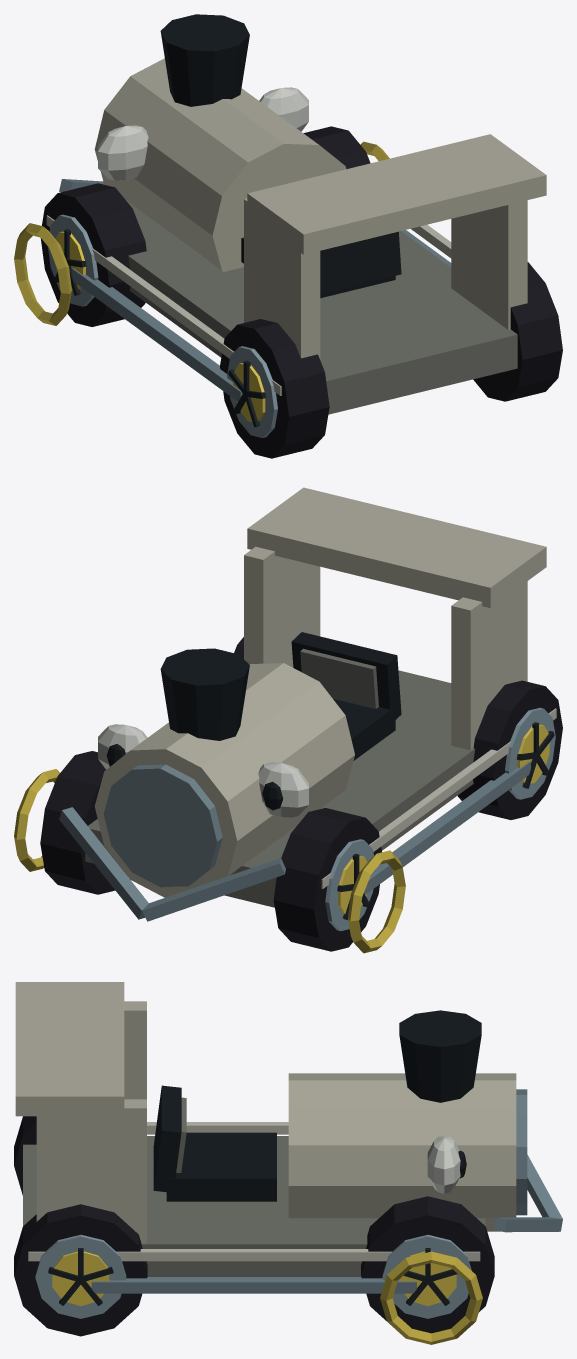
Rendered from kart.glb.
The picture shows the model from 3 angles, top to bottom: view 1: azimuth 30°, elevation 25°; view 2: azimuth 150°, elevation 25°; view 3: azimuth 270°, elevation 25°; orthographic projection. The views are drawn at different scales.
Visible parts, largest first — view 1: identity-train-locomotive-boiler-and-cowcatcher, wheel-rear-left, wheel-front-left, identity-train-motif-neon, wheel-rear-right, identity-train-driver-cockpit, identity-train-motif-eyes, wheel-front-right; view 2: identity-train-locomotive-boiler-and-cowcatcher, wheel-front-left, wheel-rear-left, identity-train-driver-cockpit, identity-train-motif-neon, wheel-front-right, identity-train-motif-eyes; view 3: identity-train-locomotive-boiler-and-cowcatcher, wheel-rear-right, wheel-front-right, identity-train-driver-cockpit, identity-train-motif-neon, identity-train-motif-eyes, wheel-rear-left.
Boxes of the visible parts, x1,y1,x2,y2 form: identity-train-locomotive-boiler-and-cowcatcher: (59,14,546,414); wheel-rear-left: (220,319,329,458); wheel-front-left: (40,183,146,326); identity-train-motif-neon: (14,141,451,395); wheel-rear-right: (473,262,562,401); identity-train-driver-cockpit: (241,231,401,298); identity-train-motif-eyes: (98,87,308,180); wheel-front-right: (303,126,370,169); identity-train-locomotive-boiler-and-cowcatcher: (59,487,546,921); wheel-front-left: (273,808,381,951); wheel-rear-left: (457,680,562,819); identity-train-driver-cockpit: (291,632,401,760); identity-train-motif-neon: (14,708,556,953); wheel-front-right: (40,751,114,894); identity-train-motif-eyes: (98,724,308,817); identity-train-locomotive-boiler-and-cowcatcher: (15,982,562,1293); wheel-rear-right: (14,1204,147,1336); wheel-front-right: (361,1196,494,1333); identity-train-driver-cockpit: (153,1085,276,1201); identity-train-motif-neon: (28,1122,482,1344); identity-train-motif-eyes: (427,1135,466,1193); wheel-rear-left: (14,1116,36,1195).
Size of the model in its own units: 2.13 by 1.49 by 3.04.
